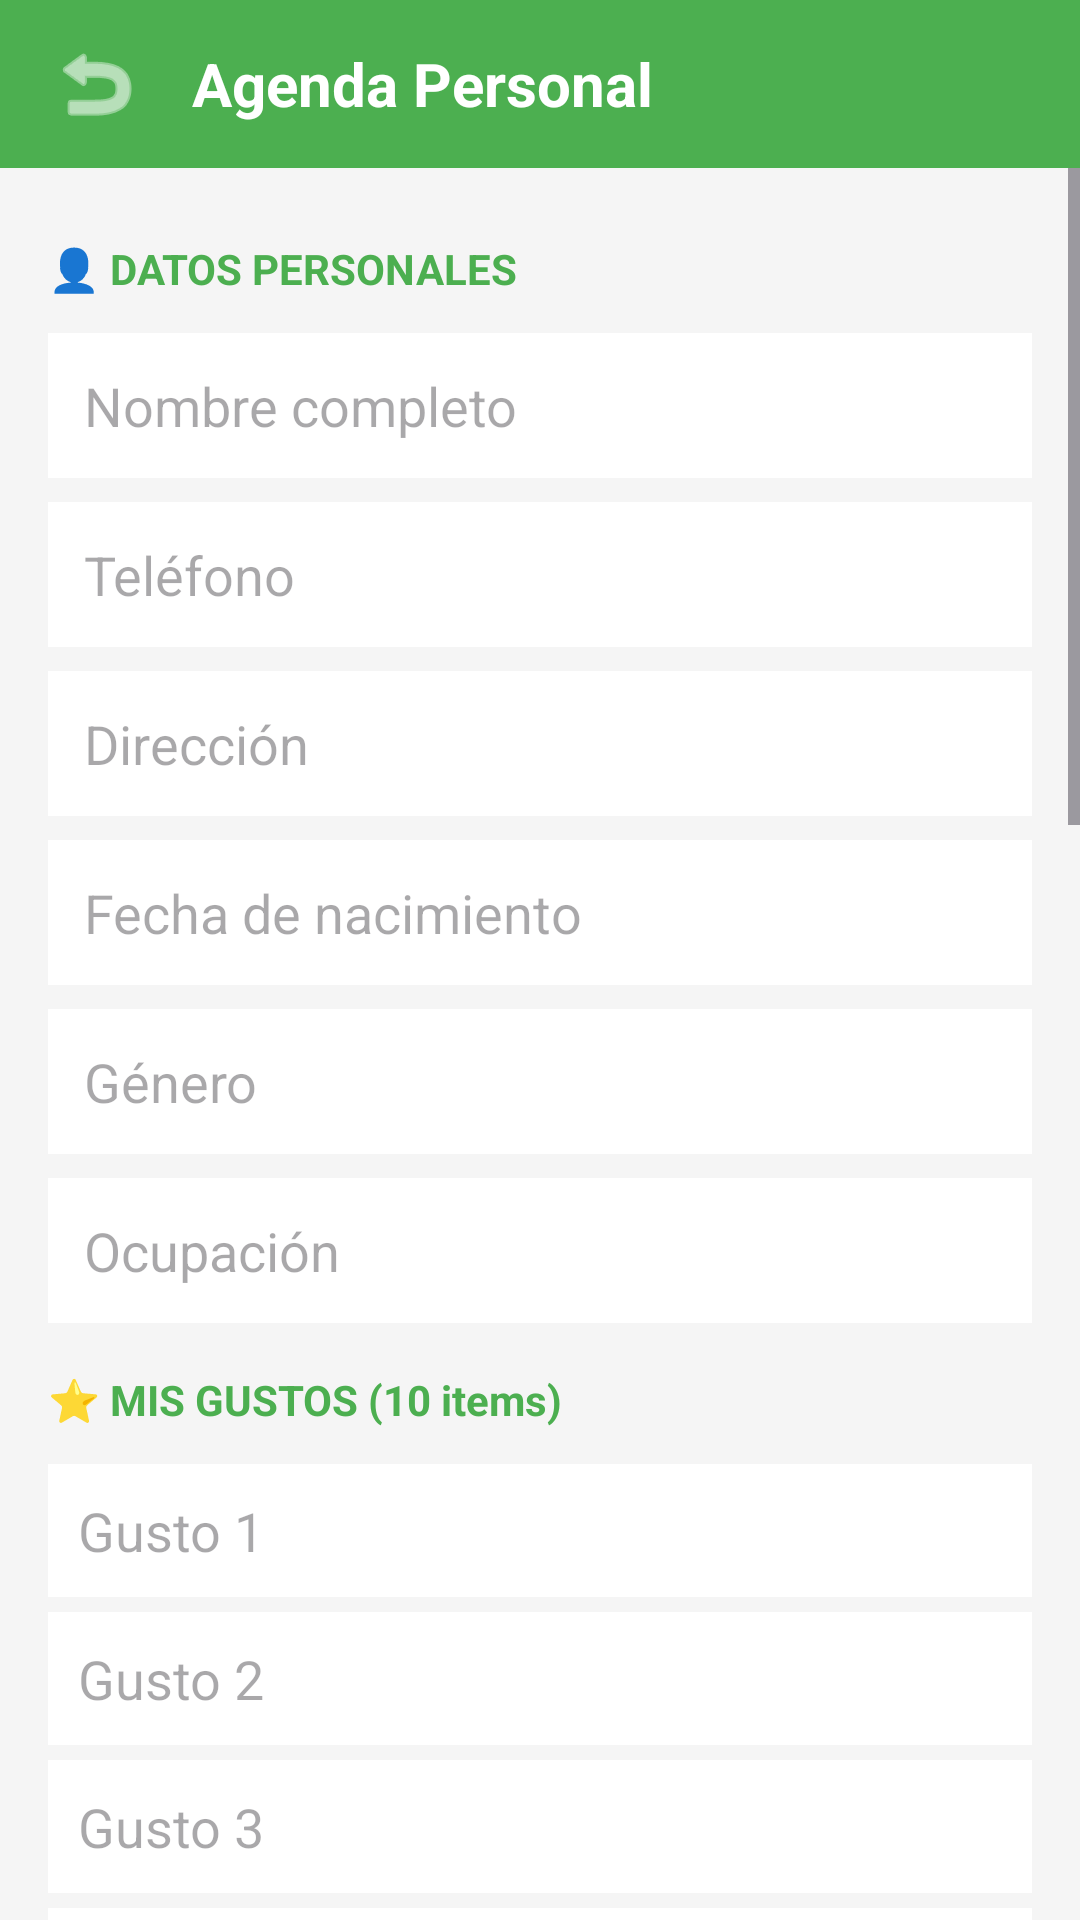

Named icons in this screenshot (1080×1920) and their centers, (x=x, y=y):
Volver: (x=97, y=84)
